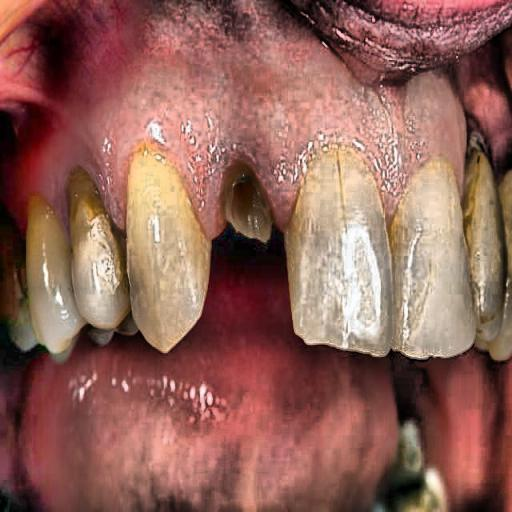Caries: (186, 135, 320, 267)
